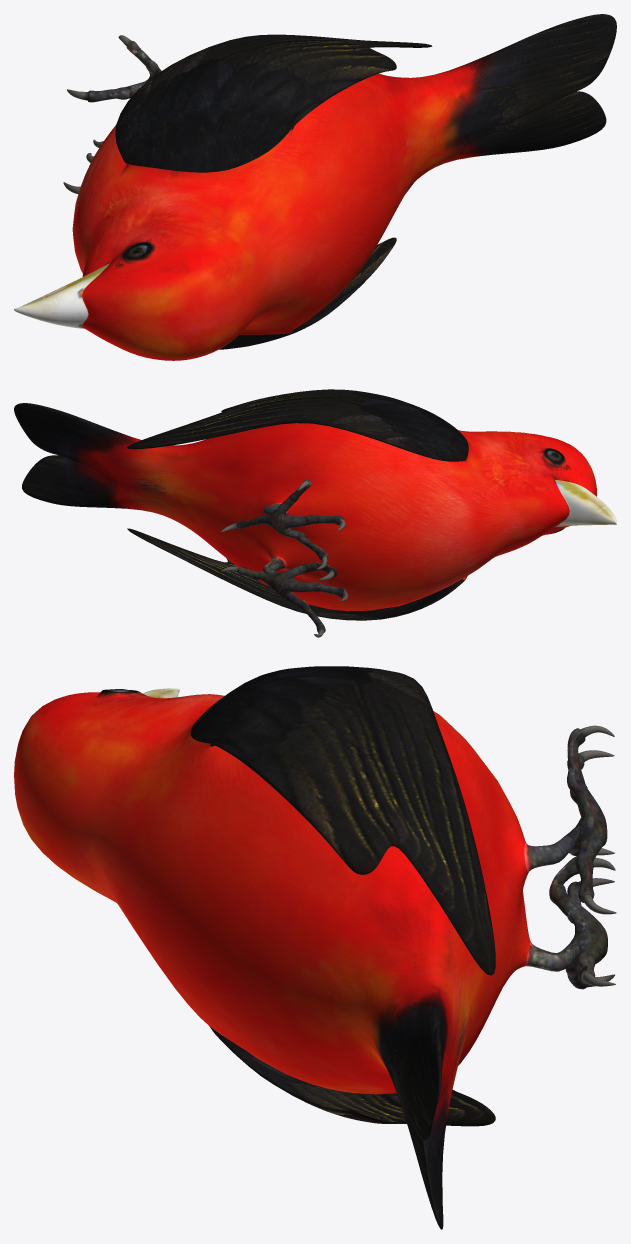
Rendered from 12212_Bird_v1_l2.obj.
3 views of the same model, one above another, from view 1: azimuth 30°, elevation 25°; view 2: azimuth 150°, elevation 25°; view 3: azimuth 270°, elevation 25° (orthographic). The views are drawn at different scales.
Parts seen in each view (by area): view 1: 12212_Bird; view 2: 12212_Bird; view 3: 12212_Bird.
Part boxes in pixels (box(x1,y1,x2,y2)): 12212_Bird: box(14, 14, 616, 360); 12212_Bird: box(14, 389, 616, 637); 12212_Bird: box(14, 666, 616, 1229).
Bounding box in the file's own units: 6.29 × 2.4 × 3.39.
Materials: 1 (1 with a texture image).
